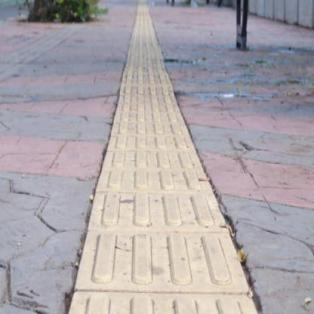Podoctatil: (70, 13, 258, 314)
